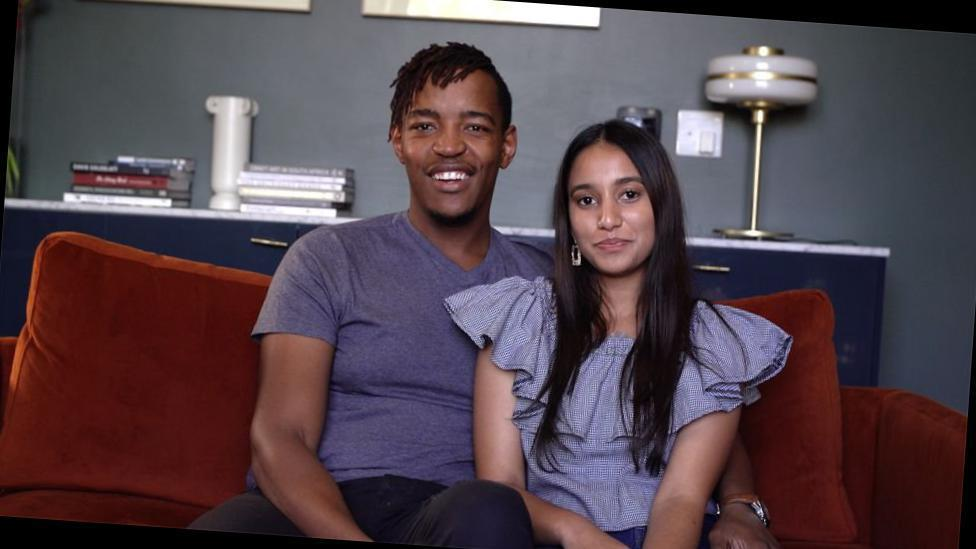Sober: (400, 73, 502, 218), (565, 147, 655, 265)
